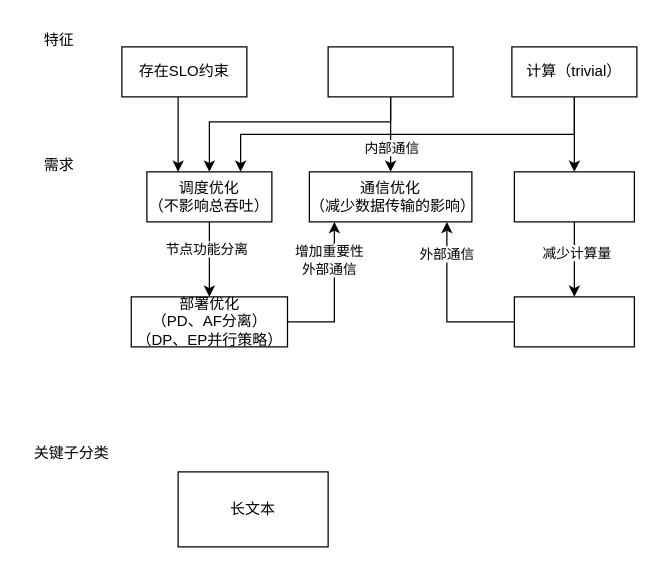
Image size: 659x569. Some labels were removed from this diagram. The shapes that lost their labels are listed below. From the top down, each one's centre as x and y in pixels, then its label:
At (x=390, y=71): "显存需求大".
At (x=573, y=196): "计算优化 （加速计算过程）".
At (x=573, y=321): "KV-cache".
